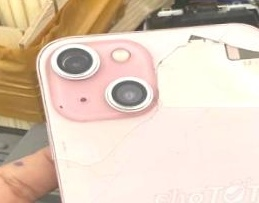physical_damage: (49, 117, 179, 203), (148, 29, 259, 120)
scratch: (50, 97, 79, 120)
